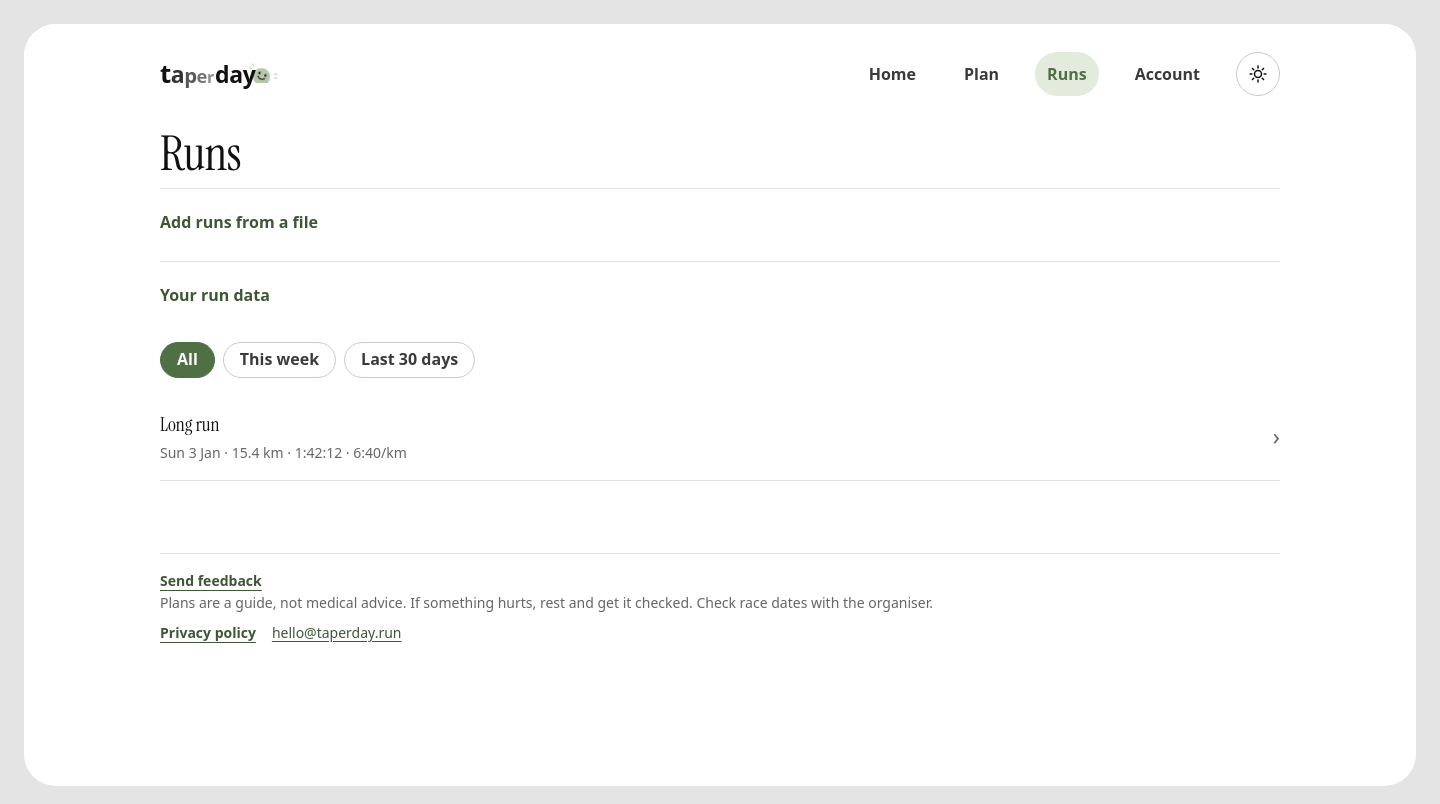
Test: my runs › lists runs newest first and opens one
Expected: the text "Sun 3 Jan · 15.4 km · 1:42:12 · 6:40/km" is shown, [160,443,407,462]
Click the button with aria-label "Open the run on": (190, 424) [160,394,1280,480]
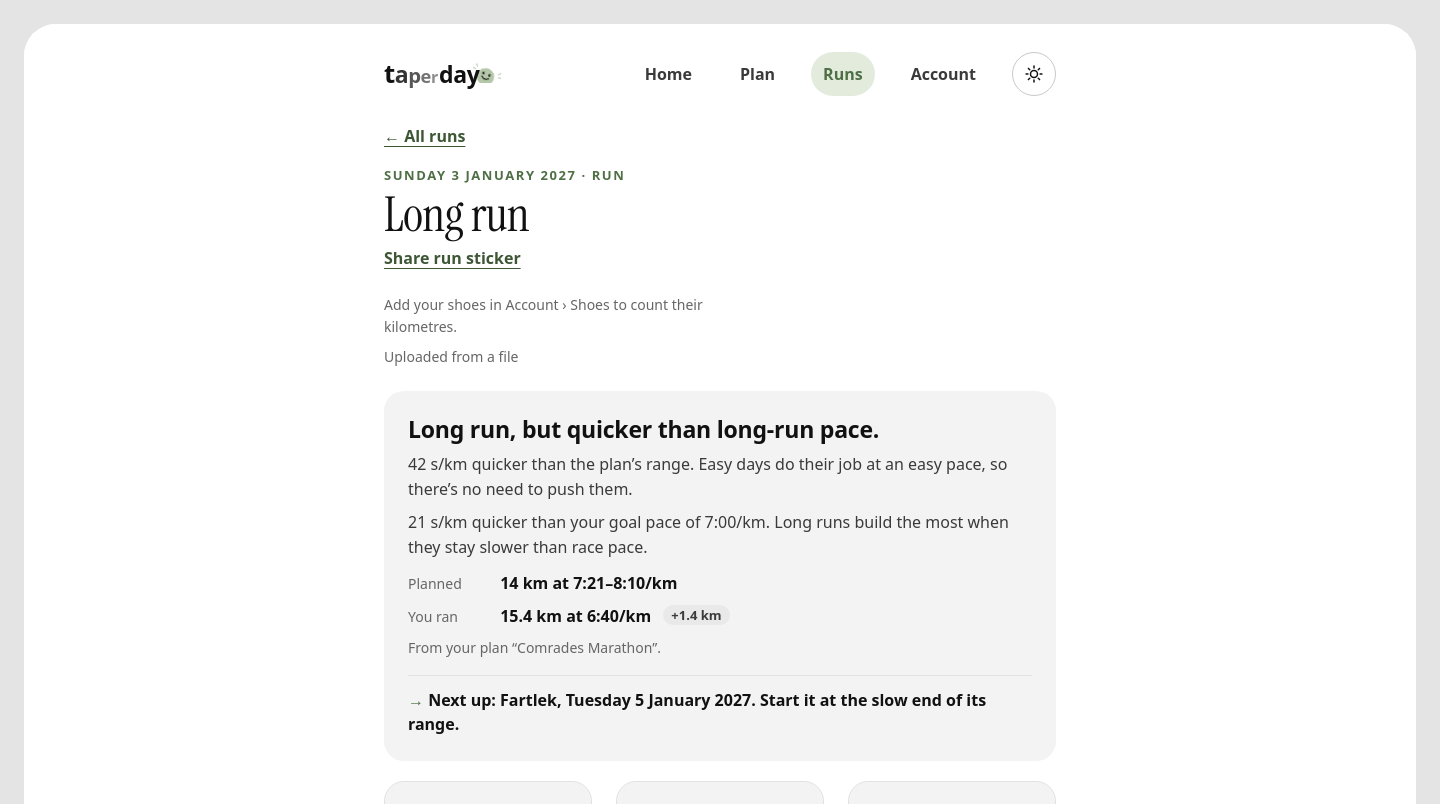
Expected: the heading "Long run" is shown, [384,183,529,246]
